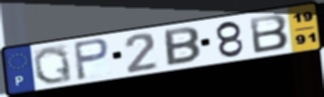2: (123, 31, 161, 75)
8: (214, 20, 245, 59)
B: (247, 13, 290, 55), (163, 26, 203, 68)
P: (72, 37, 112, 82)
Q: (32, 45, 75, 86)
